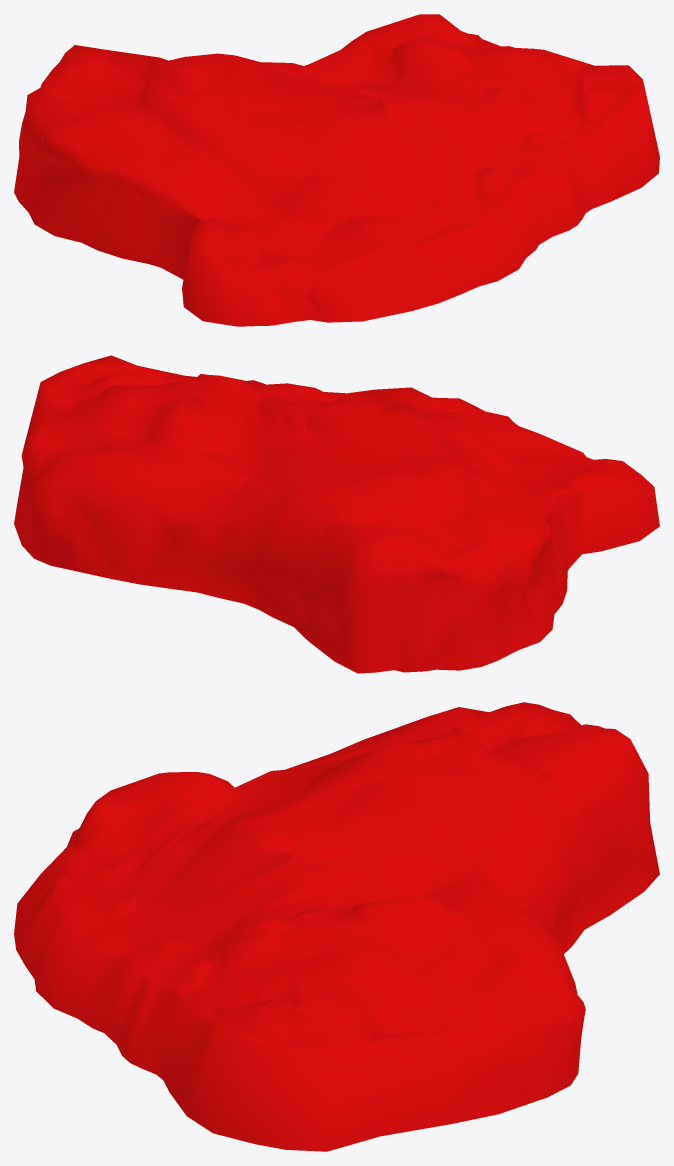
File: SM_flat_rock_02.glb
The picture shows the model from 3 angles, top to bottom: view 1: azimuth 30°, elevation 25°; view 2: azimuth 150°, elevation 25°; view 3: azimuth 270°, elevation 25°; orthographic projection. The views are drawn at different scales.
Parts seen in each view (by area): view 1: SM_flat_rock_02_LOD0; view 2: SM_flat_rock_02_LOD0; view 3: SM_flat_rock_02_LOD0.
Part boxes in pixels (left/top/right/bottom): SM_flat_rock_02_LOD0: left=14, top=14, right=659, bottom=326; SM_flat_rock_02_LOD0: left=14, top=355, right=659, bottom=673; SM_flat_rock_02_LOD0: left=14, top=702, right=659, bottom=1151.
Bounding box in the file's own units: 3.97 × 0.8461 × 3.2.
